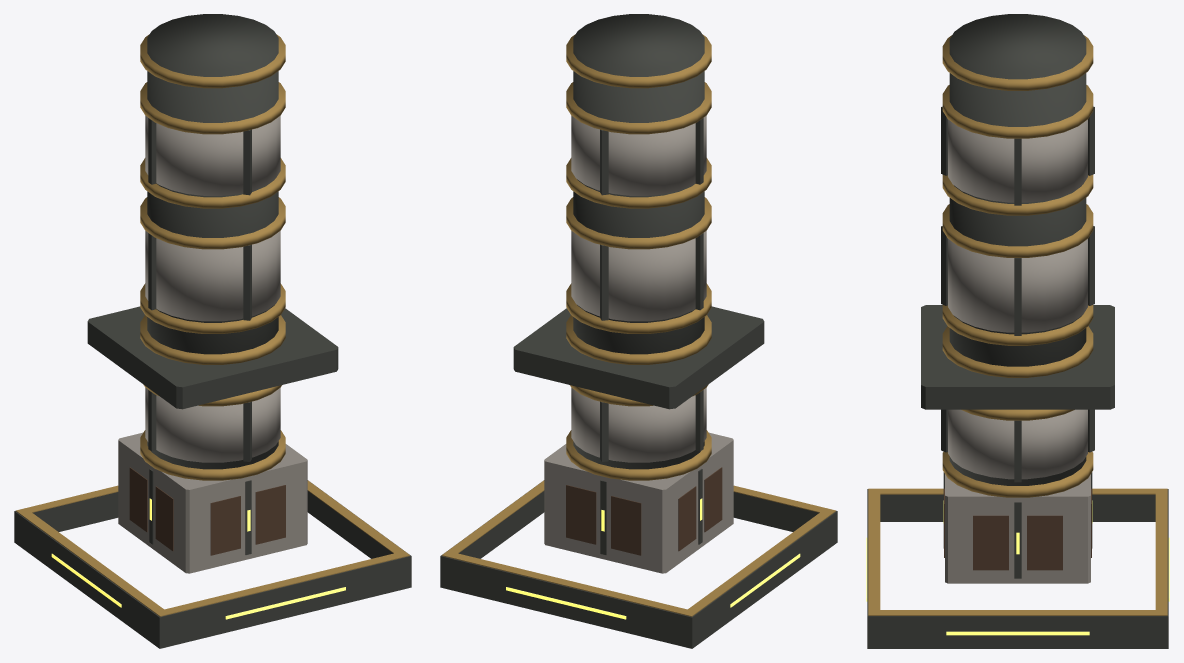
File: b4_core.glb
3 renders of one model, left to right at view 1: azimuth 30°, elevation 25°; view 2: azimuth 150°, elevation 25°; view 3: azimuth 270°, elevation 25°, orthographic. The views are drawn at different scales.
Parts seen in each view (by area): view 1: b4_core; view 2: b4_core; view 3: b4_core.
Part boxes in pixels (<box>): b4_core: <box>14,14,411,648</box>; b4_core: <box>440,14,837,648</box>; b4_core: <box>866,14,1169,648</box>.
Size of the model in its own units: 5.07 by 10 by 5.07.
